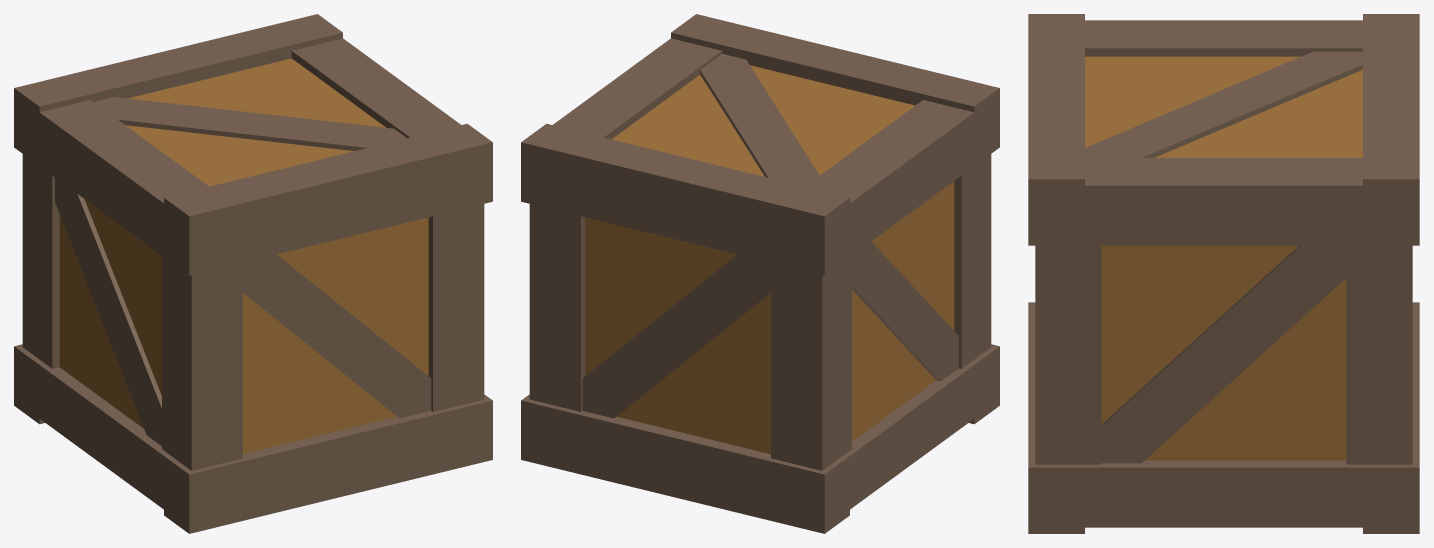
3 views of the same model, side by side, from view 1: azimuth 30°, elevation 25°; view 2: azimuth 150°, elevation 25°; view 3: azimuth 270°, elevation 25° (orthographic). The views are drawn at different scales.
Visible parts, largest first — view 1: Box_1; view 2: Box_1; view 3: Box_1.
Part boxes in pixels (x1,y1,x2,y2): Box_1: (14, 14, 492, 533); Box_1: (521, 14, 999, 533); Box_1: (1028, 14, 1419, 533).
Bounding box in the file's own units: 78.04 × 78.04 × 78.04.
